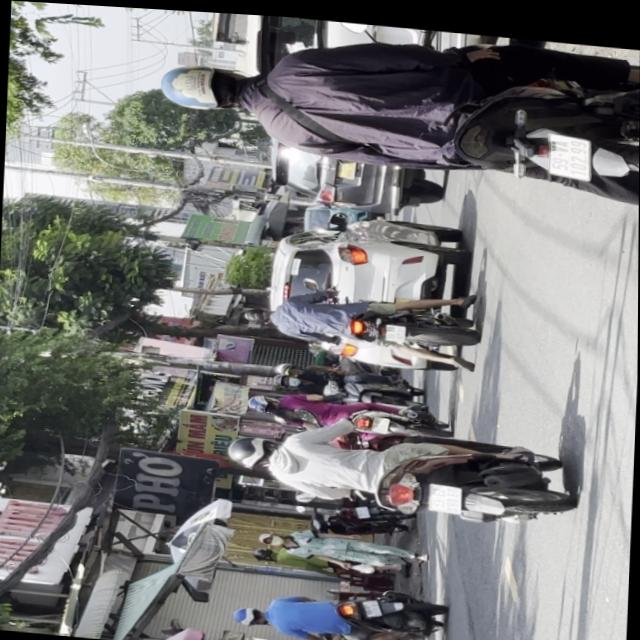helmet: (158, 56, 251, 112), (225, 431, 279, 468), (231, 601, 268, 624), (246, 390, 281, 411)
licenseplate: (153, 7, 640, 201), (220, 407, 575, 526), (238, 272, 480, 357), (230, 573, 448, 640), (244, 383, 452, 436)
motorcyclist: (242, 302, 274, 322)
nohelmet: (547, 127, 590, 172), (429, 478, 462, 507), (384, 318, 405, 336), (362, 593, 383, 611), (370, 410, 390, 428)
